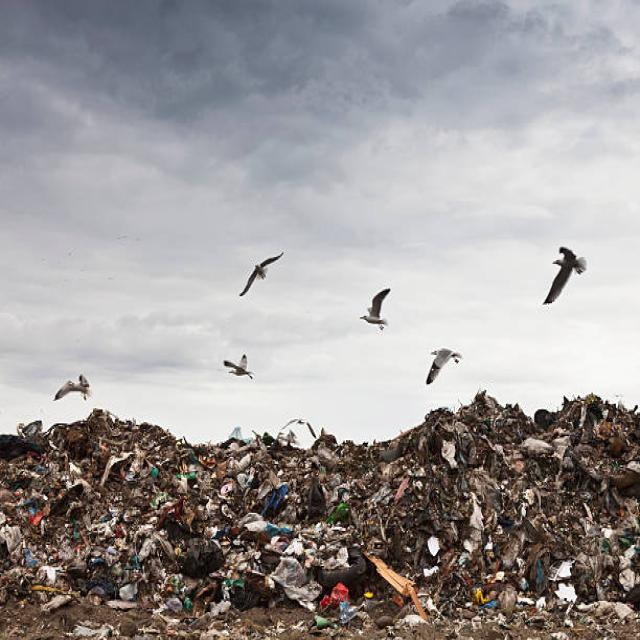trash: (8, 369, 624, 602)
